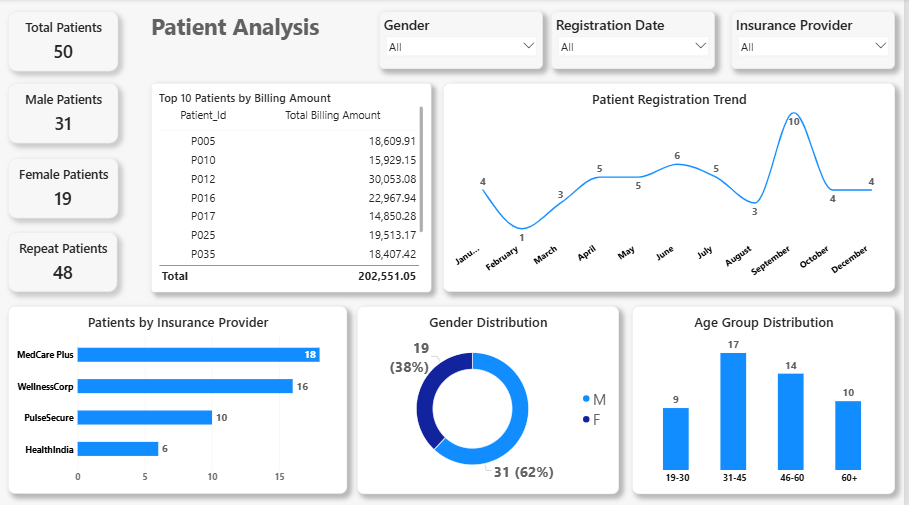

The dashboard page shown, as its layout file describes it:
{"tool":"powerbi","page":{"name":"Patient Insights","canvas":[1920,1080],"ordinal":1},"visuals":[{"type":"card","title":"Total Patients","fields":{"Values":["Count(patients4.patient_id)"]},"box":[17,25.5,233.9,127.6],"z":0},{"type":"card","title":"Male Patients","fields":{"Values":["patients4.Male"]},"box":[17,178.6,233.9,127.6],"z":1000},{"type":"card","title":"Female Patients","fields":{"Values":["patients4.Female"]},"box":[17,338,233.9,127.6],"z":2000},{"type":"card","title":"Repeat Patients","fields":{"Values":["appointments1.Repeat Patients"]},"box":[17.5,495.3,232.3,127.1],"z":3000},{"type":"donutChart","title":"Gender Distribution","fields":{"Y":["Count(patients4.patient_id)"],"Category":["patients4.gender"]},"box":[759,652.7,557,399.7],"z":4000},{"type":"barChart","title":"Patients by Insurance Provider","fields":{"Category":["patients4.insurance_provider"],"Y":["CountNonNull(patients4.patient_id)"]},"box":[17.5,653.2,721.1,398.9],"z":5000},{"type":"lineChart","title":"Patient Registration Trend","fields":{"Y":["CountNonNull(patients4.patient_id)"],"Category":["patients4.registration_date.Variation.Date Hierarchy.Month"]},"box":[941.8,178.6,960.9,444.3],"z":6000},{"type":"tableEx","title":"Top 10 Patients by Billing Amount","fields":{"Values":["patients4.patient_id","Sum(billing2.amount)"]},"box":[320,177.5,596.2,444.9],"z":7000},{"type":"columnChart","title":"Age Group Distribution","fields":{"Y":["CountNonNull(patients4.patient_id)"],"Category":["patients4.Age_Group"]},"box":[1343.6,652.7,559.1,399.7],"z":8000},{"type":"slicer","title":"Gender","fields":{"Values":["patients4.gender"]},"box":[806.6,26.3,348.5,122.7],"z":9000},{"type":"slicer","title":"Registration Date","fields":{"Values":["patients4.registration_date.Variation.Date Hierarchy.Month"]},"box":[1170.4,26.3,348.5,122.7],"z":10000},{"type":"slicer","title":"Insurance Provider","fields":{"Values":["patients4.insurance_provider"]},"box":[1554,26.3,348.5,122.7],"z":11000},{"type":"textbox","box":[320,26.3,385.8,87.7],"z":12000}]}

Visuals, with their boxes in screenshot pixels (x1, y1, x2, y2), scaled from the page's 1920x1080 canvas onto the 909x505 screenshot:
"Total Patients" card: <bbox>8, 12, 119, 72</bbox>
"Male Patients" card: <bbox>8, 84, 119, 143</bbox>
"Female Patients" card: <bbox>8, 158, 119, 218</bbox>
"Repeat Patients" card: <bbox>8, 232, 118, 291</bbox>
"Gender Distribution" donutChart: <bbox>359, 305, 623, 492</bbox>
"Patients by Insurance Provider" barChart: <bbox>8, 305, 350, 492</bbox>
"Patient Registration Trend" lineChart: <bbox>446, 84, 901, 291</bbox>
"Top 10 Patients by Billing Amount" tableEx: <bbox>152, 83, 434, 291</bbox>
"Age Group Distribution" columnChart: <bbox>636, 305, 901, 492</bbox>
"Gender" slicer: <bbox>382, 12, 547, 70</bbox>
"Registration Date" slicer: <bbox>554, 12, 719, 70</bbox>
"Insurance Provider" slicer: <bbox>736, 12, 901, 70</bbox>
textbox: <bbox>152, 12, 334, 53</bbox>
